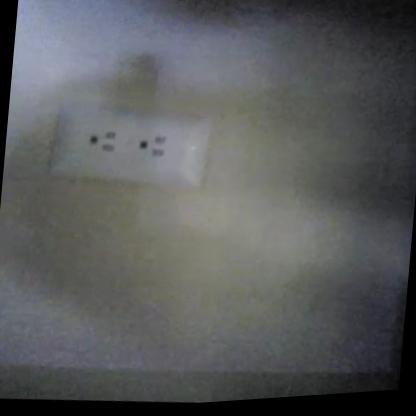OUTLET: (46, 96, 211, 195)
